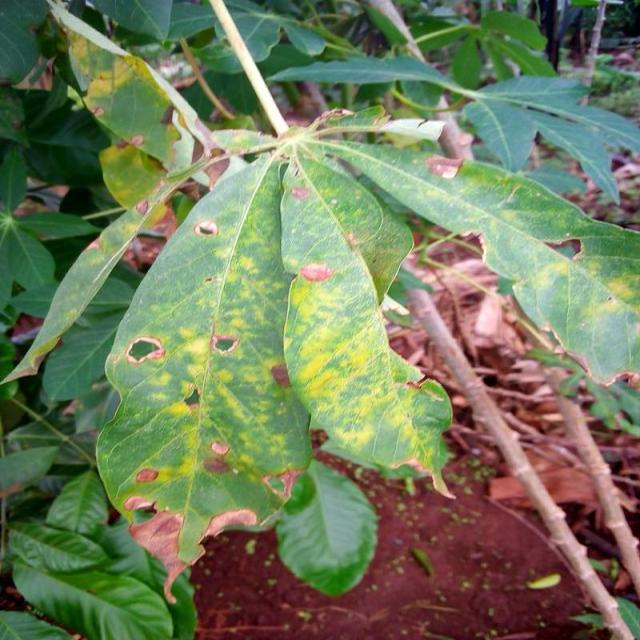cassava leaf: (96, 145, 314, 597), (279, 151, 457, 498)
